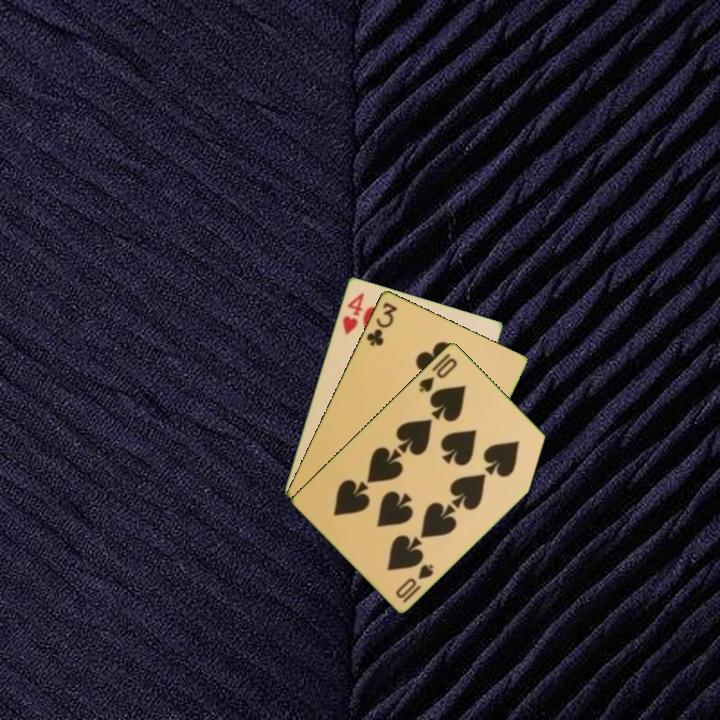10s: (415, 349, 460, 395), (392, 560, 437, 606)
3c: (362, 298, 400, 349)
4h: (339, 288, 367, 337)
